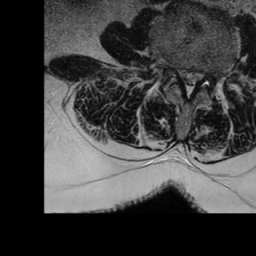CCS_normal: (185, 62, 193, 104)
LFS_severe_stenosis: (203, 65, 212, 85)
LLS_stenosis: (193, 65, 202, 88)
RFS_severe_stenosis: (167, 55, 177, 78)
RLS_stenosis: (177, 62, 185, 88)
